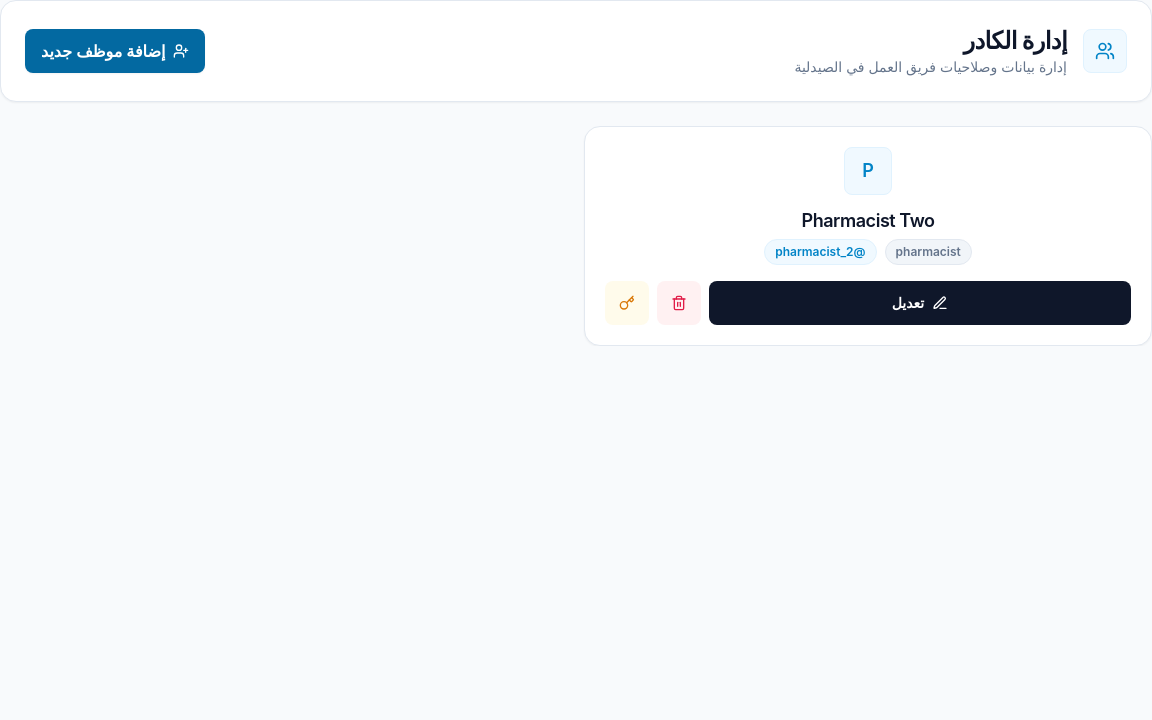
Test: validates required authorizer password and handles cancellation
The width and height of the screenshot is (1152, 720).
Click the button titled "حذف الموظف" at (679, 303), box [657,281,701,325]
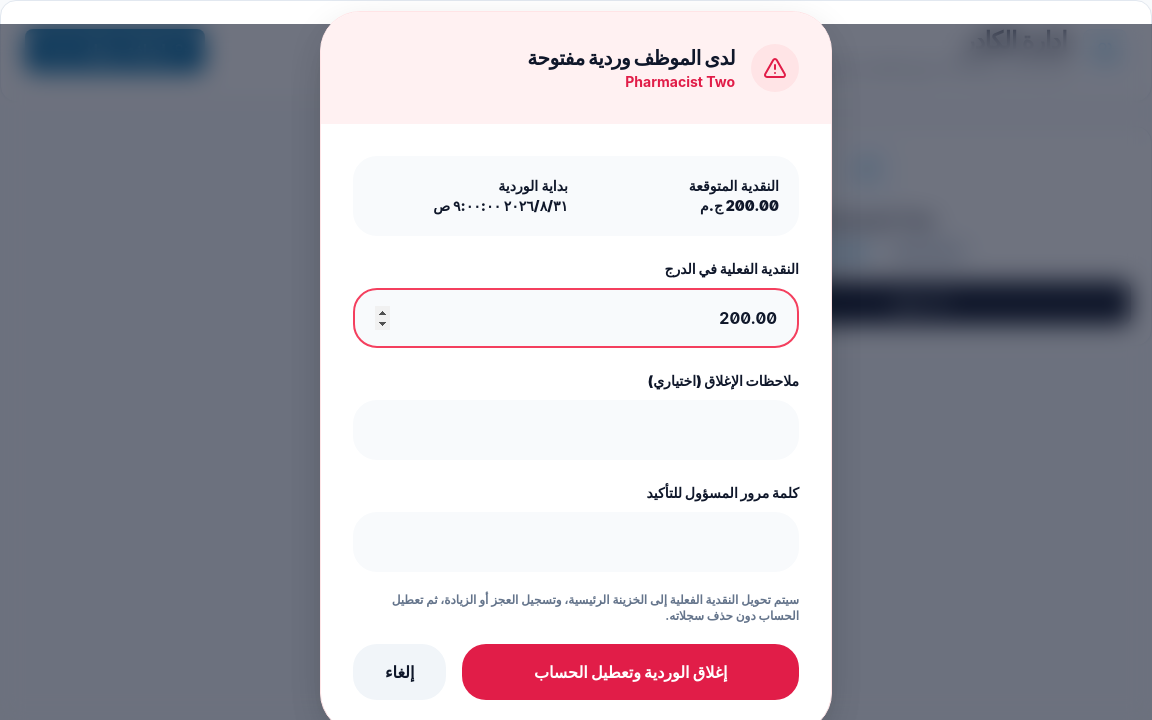
Now the heading "لدى الموظف وردية مفتوحة" is shown, box [527,44,735,72]
# Try clicking without entering authorizer password
Click the button "إغلاق الوردية وتعطيل الحساب" at (631, 672), box [462,644,799,700]
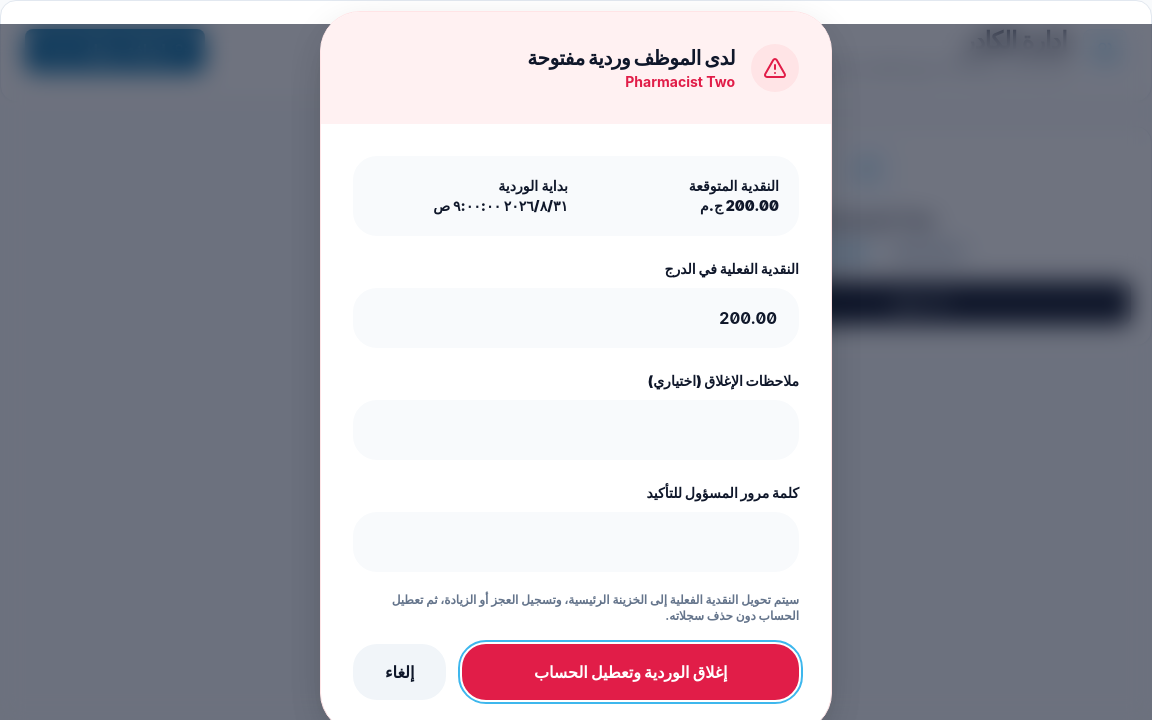
# Cancel modal
Click the button "إلغاء" at (400, 672), box [353,644,446,700]
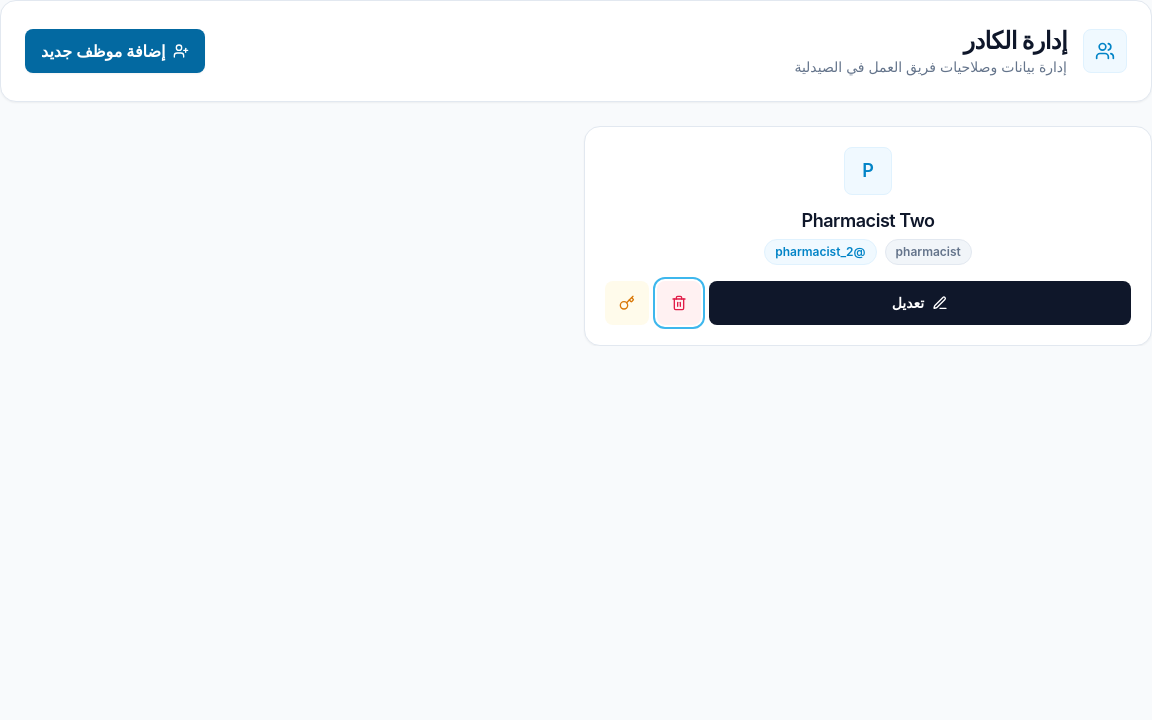
Now the heading "لدى الموظف وردية مفتوحة" is gone
